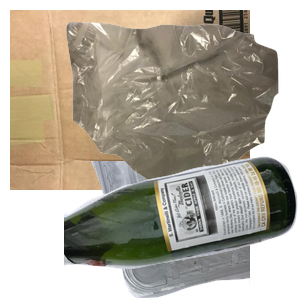cardboard: (10, 10, 250, 190)
glass: (64, 154, 300, 300)
plastic: (23, 161, 263, 300)
trash: (64, 20, 300, 200)
